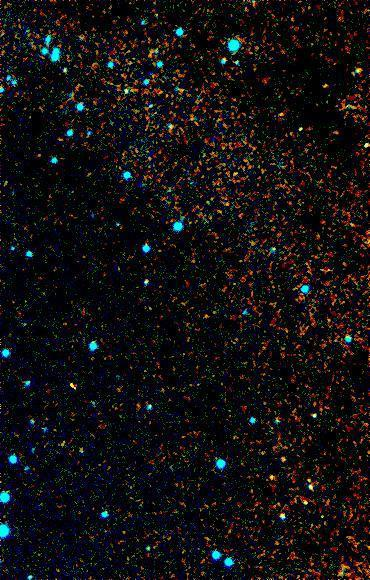star: (256, 460, 286, 490)
